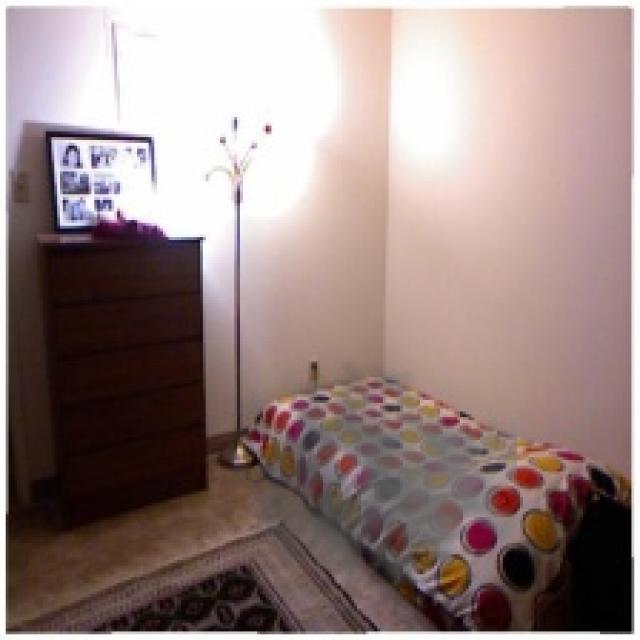Smoke: (248, 357, 518, 614)
